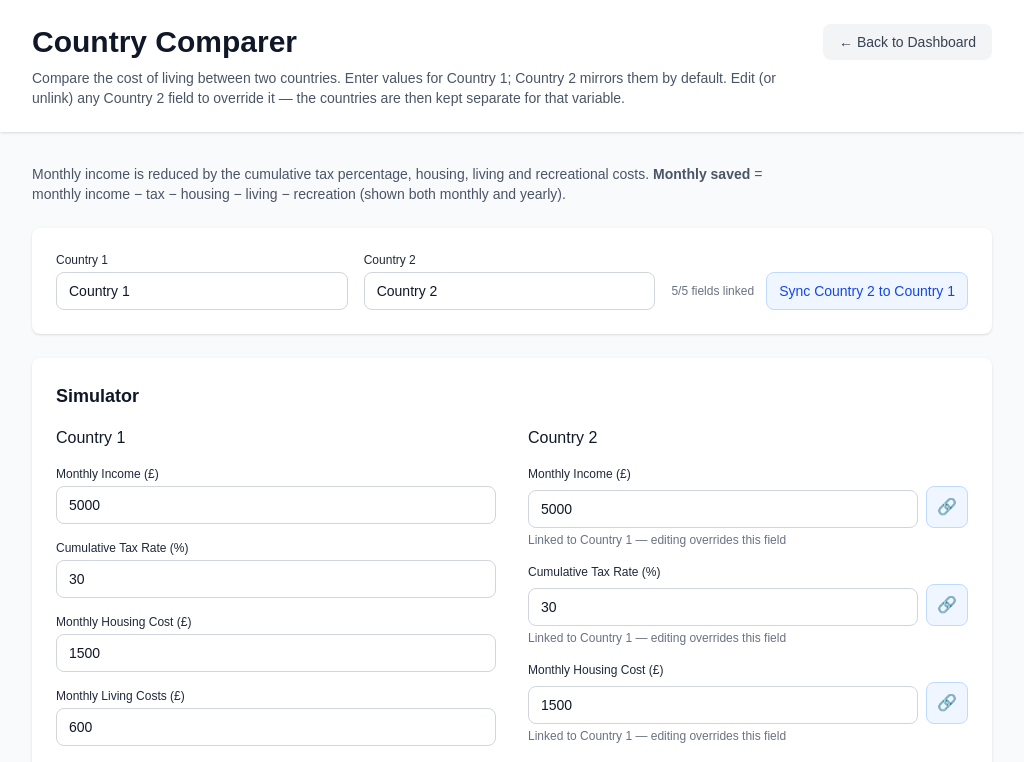
Test: CountryComparer › re-links a Country 2 field so it mirrors Country 1 again
This screenshot has width=1024, height=762.
Replace the text in the number field with id "country2-income" with "9000": (723, 509) [528,490,918,528]
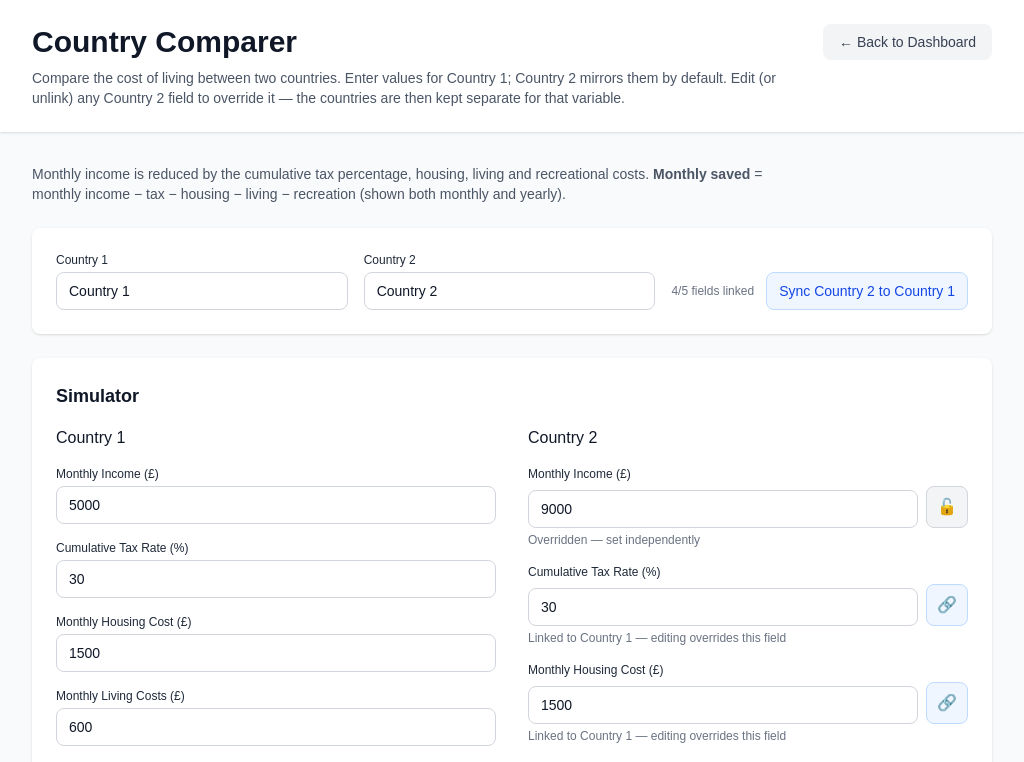
Note: Click the (now "re-link") button for income.
Click the button named "Re-link \"Monthly Income (£)\" to Country 1": (947, 507) [926,486,968,528]
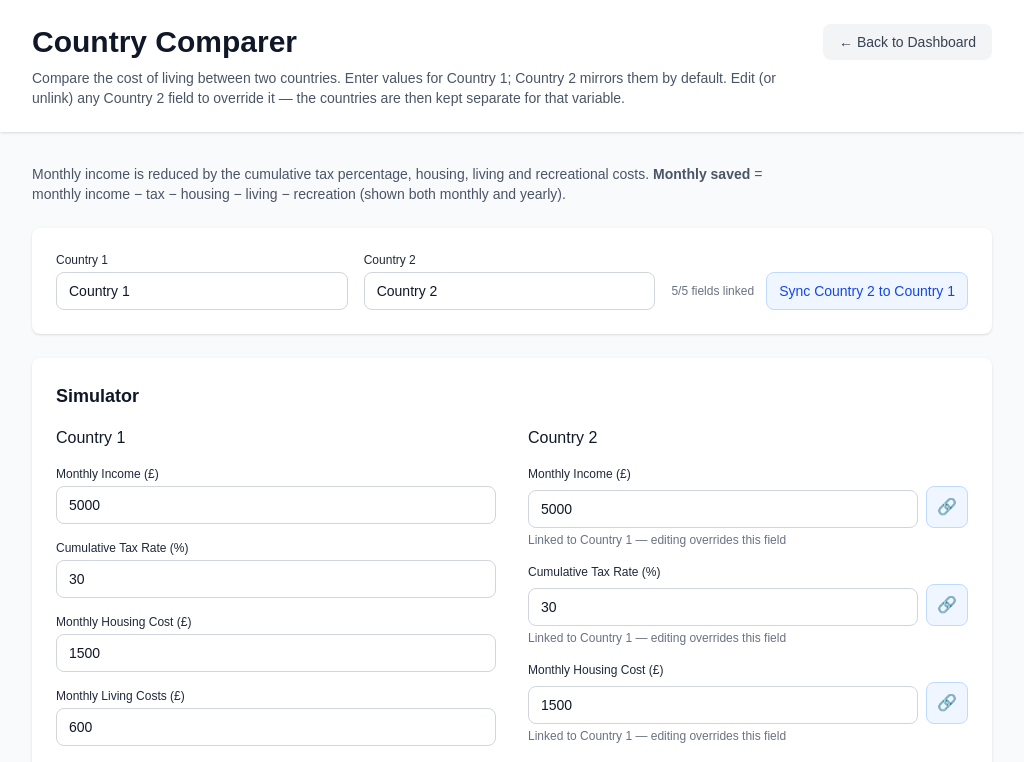
Now the button named "Unlink \"Monthly Income (£)\" from Country 1" is shown, box [926,486,968,528]
